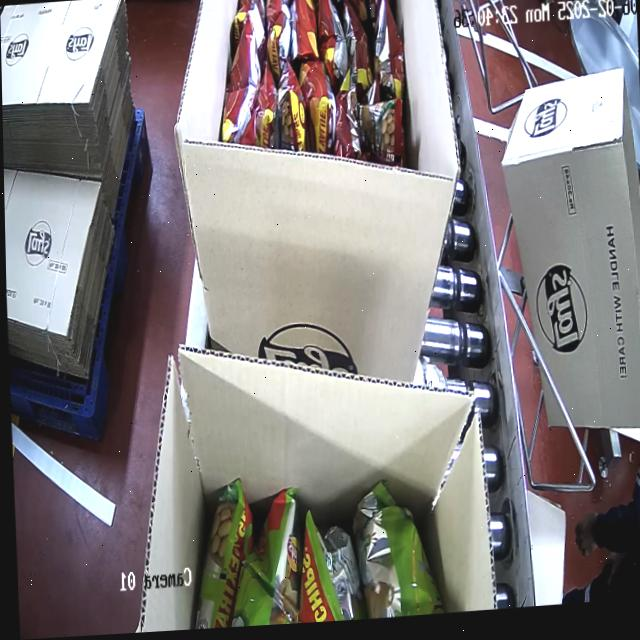MASALA: (227, 0, 408, 172)
YOGURT_HERB: (184, 447, 447, 630)
